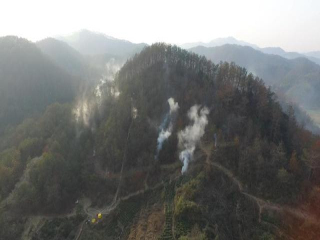smoke: (77, 63, 213, 173)
